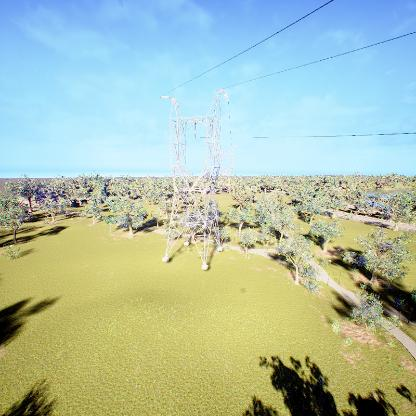tower: (159, 87, 233, 273)
